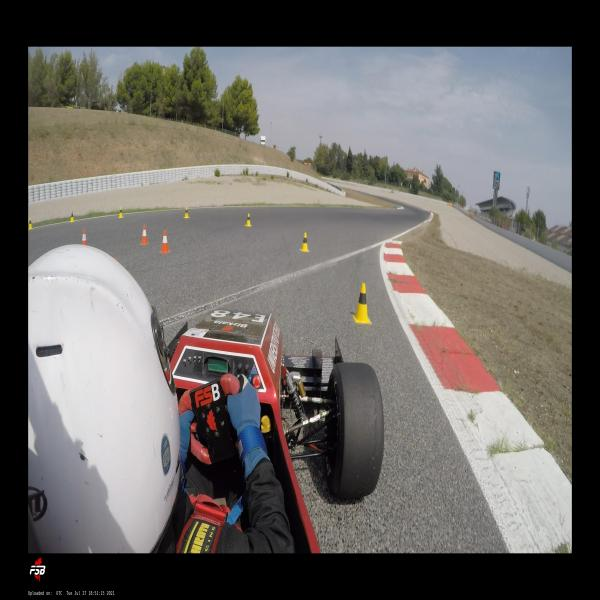orange_cone: (160, 230, 171, 254), (140, 224, 150, 246), (81, 229, 88, 245)
yellow_cone: (352, 282, 372, 324), (300, 232, 309, 252), (245, 213, 252, 226), (28, 217, 34, 230), (184, 206, 189, 219), (70, 211, 75, 222), (118, 207, 123, 218)
